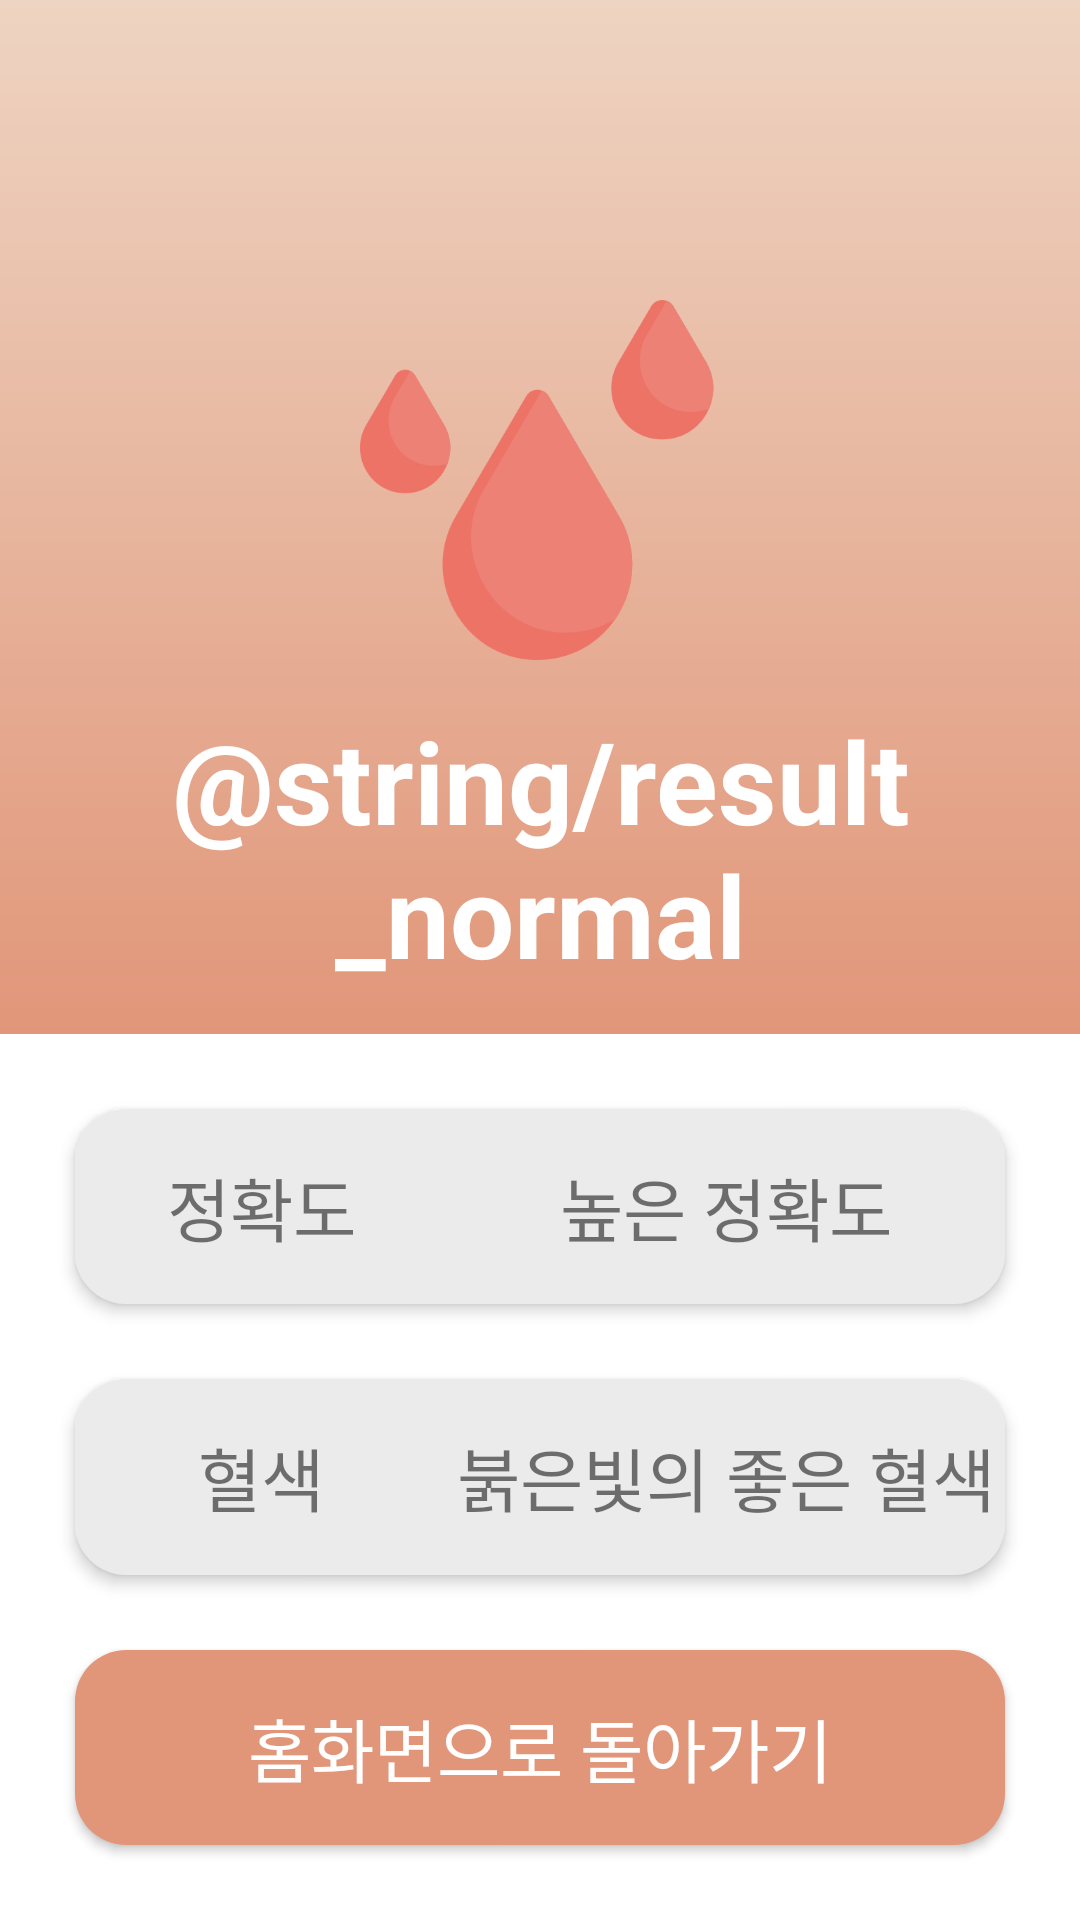

Where icons sit on this 1080×1920 app screen, as (x1, y1, x2, y2):
normalblood: (360, 370, 632, 660)
